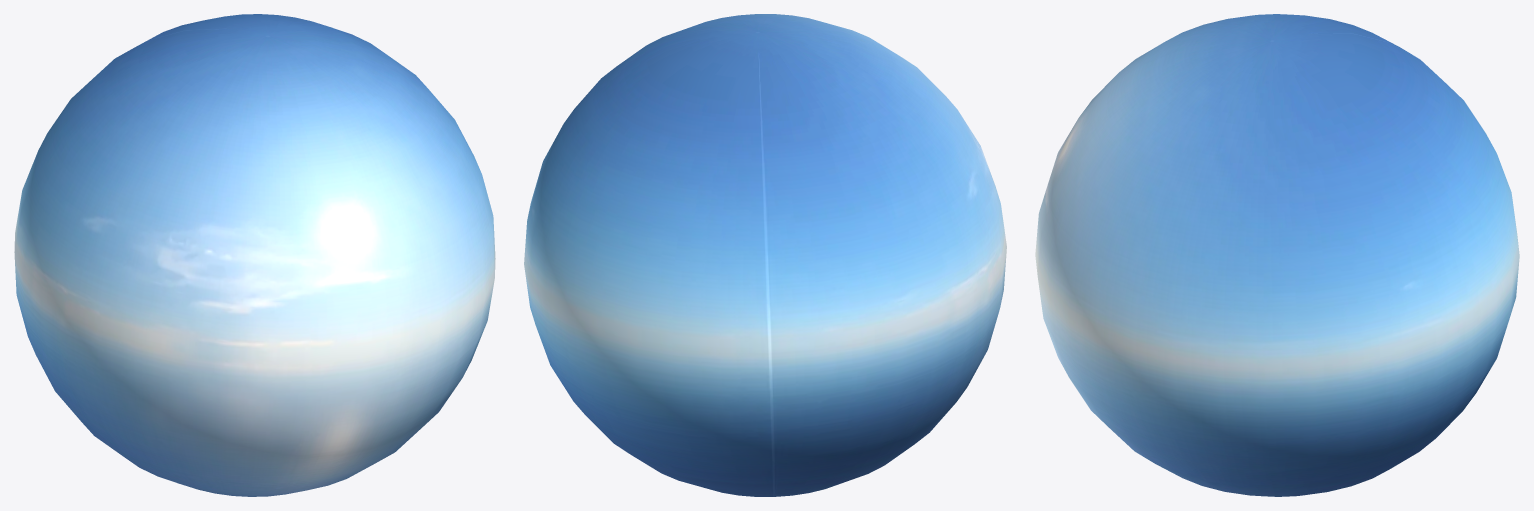
File: aprem.gltf
3 renders of one model, left to right at view 1: azimuth 30°, elevation 25°; view 2: azimuth 150°, elevation 25°; view 3: azimuth 270°, elevation 25°, orthographic.
Parts seen in each view (by area): view 1: aprem; view 2: aprem; view 3: aprem.
Boxes of the visible parts, box(x1,y1,x2,y2) form: aprem: box(14, 14, 495, 496); aprem: box(524, 14, 1006, 496); aprem: box(1035, 14, 1519, 496).
Size of the model in its own units: 443 by 444 by 444.
Materials: 1 (1 with a texture image).
